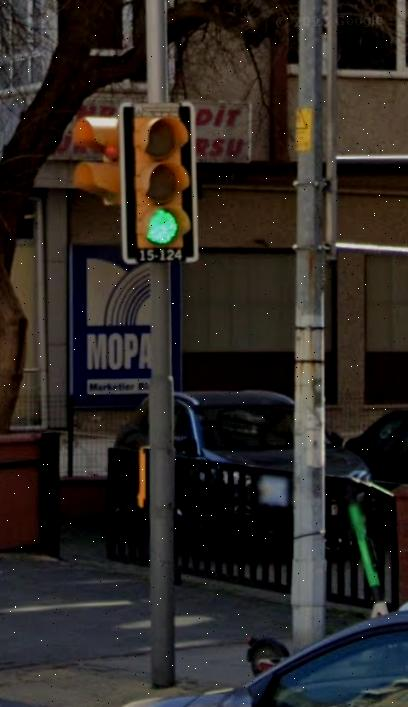greenlight: (124, 104, 191, 263)
